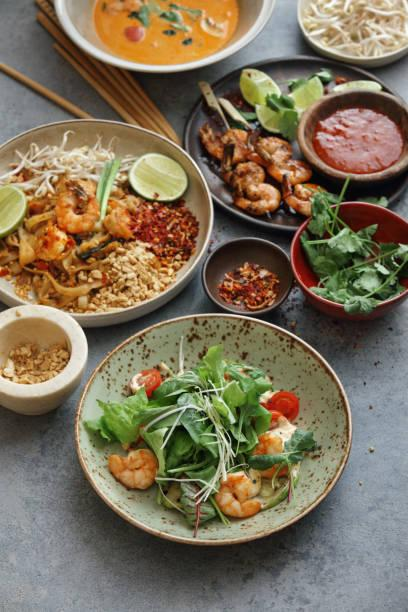Braised Crucian Carp: (73, 316, 350, 541), (2, 118, 213, 322), (183, 57, 404, 231), (55, 0, 274, 73)
